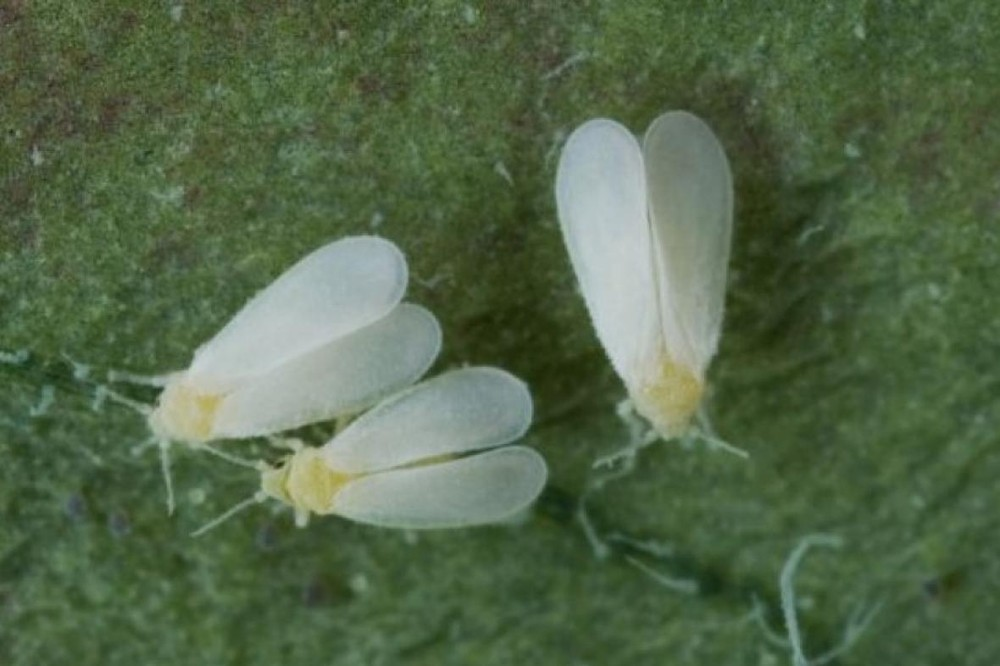Mosca Blanca: (110, 219, 503, 465), (531, 118, 792, 479), (260, 353, 581, 576)
